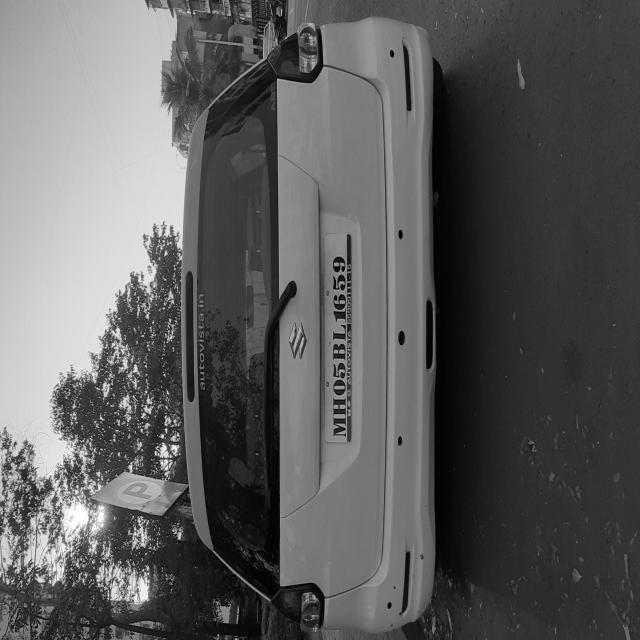car: (0, 362, 311, 640)
